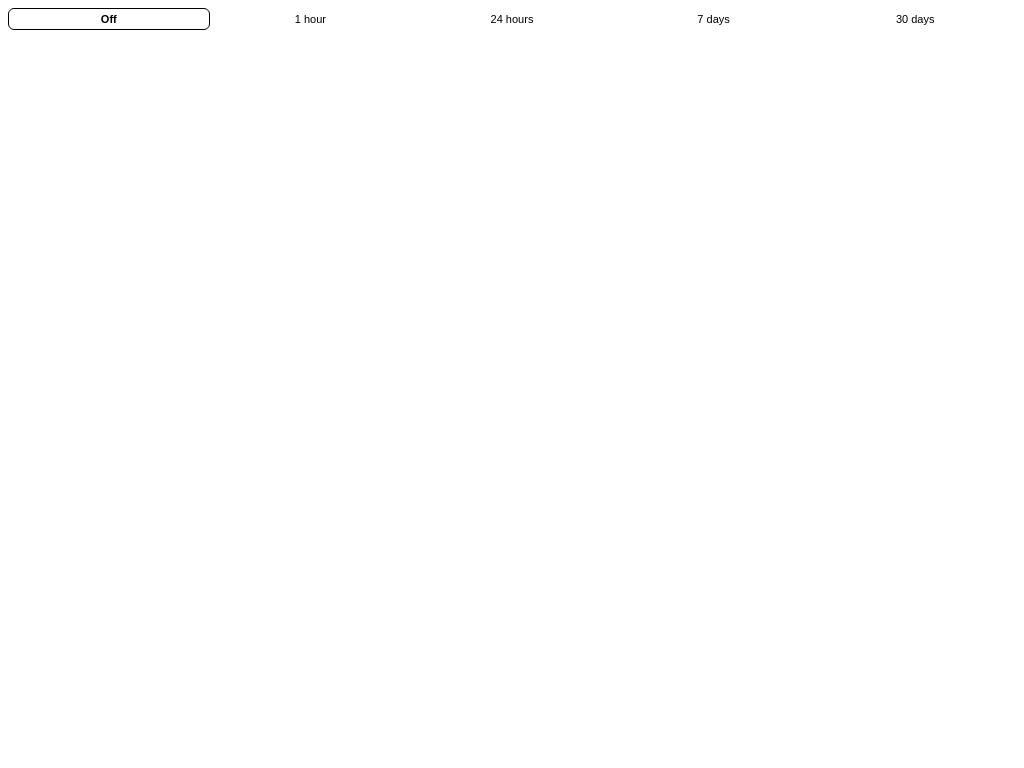
Test: MessageExpirationEditor › shows the chosen 24 hours duration in the confirmation disclosure
Click the button "24 hours" at (512,19), box [411, 8, 613, 30]
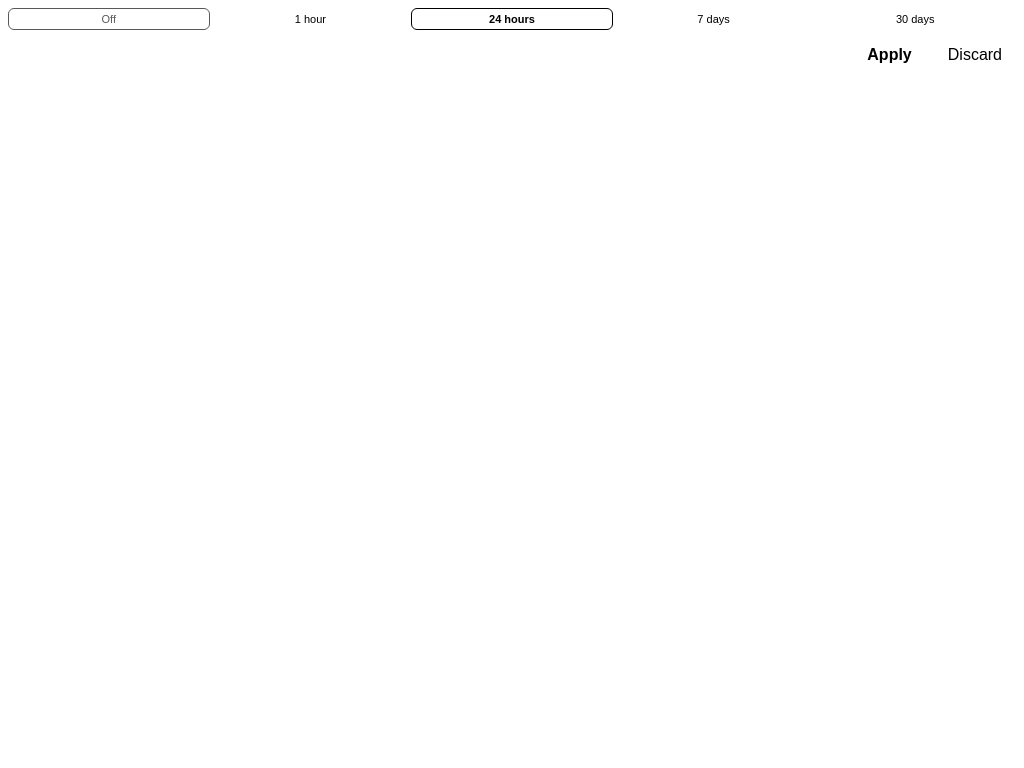
Click the button "Apply" at (890,55), box [853, 40, 926, 70]
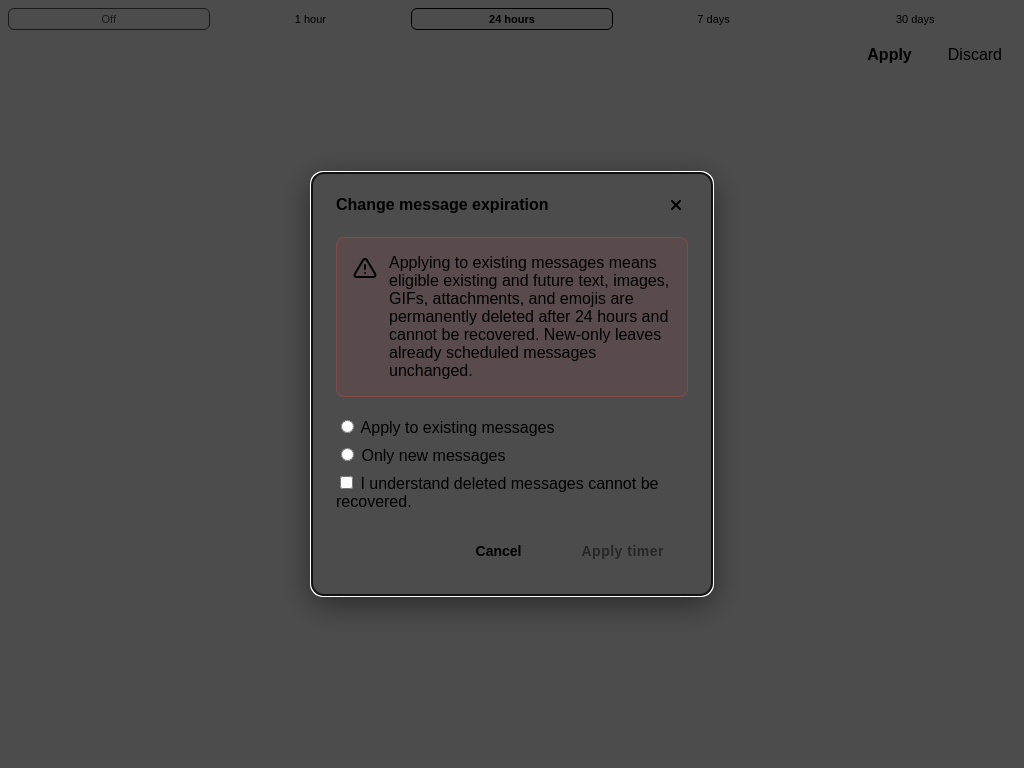
Expected: the text "after 24 hours" is shown, [389, 254, 669, 379]
